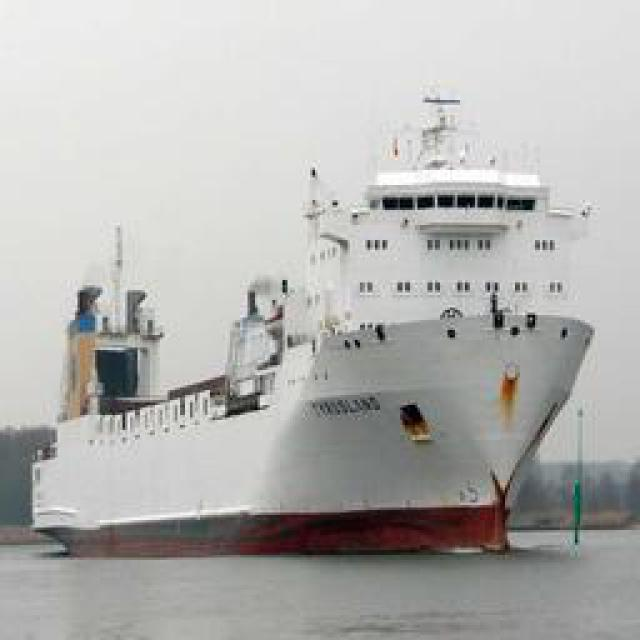Ship: (33, 137, 601, 550)
